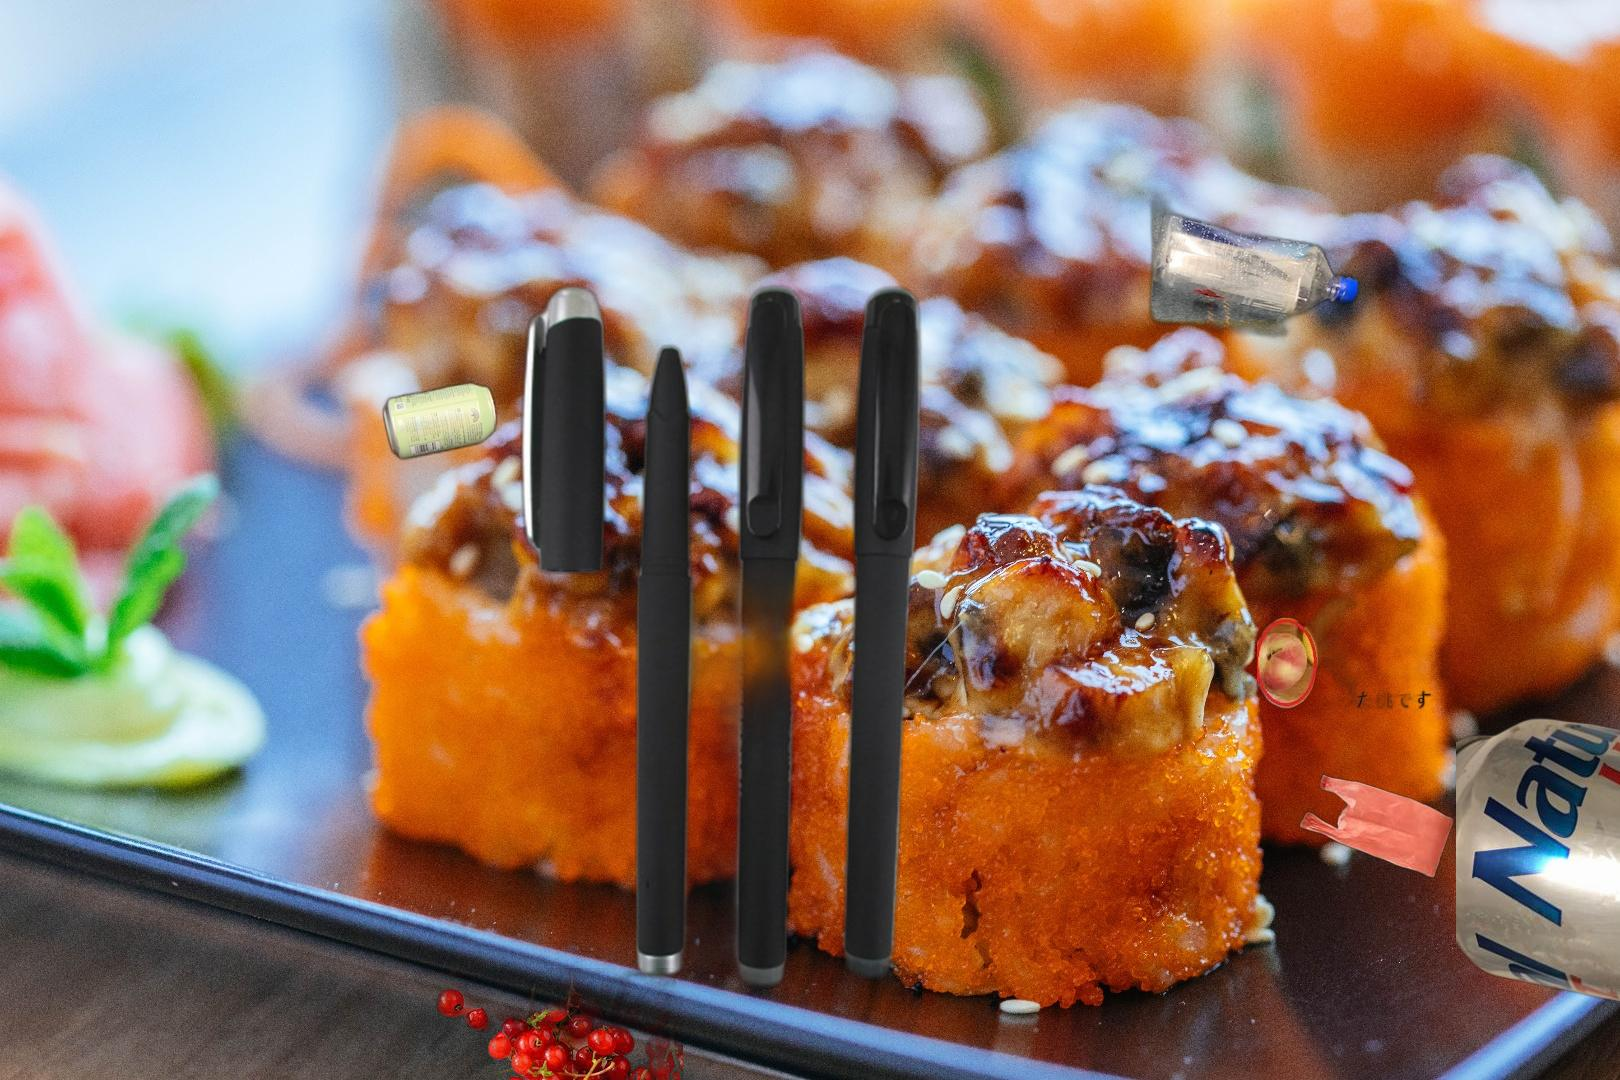biological: (1257, 456, 1451, 715), (406, 968, 683, 1080)
metal-cans: (1456, 716, 1620, 1053), (378, 376, 501, 464)
penholder: (513, 280, 928, 993)
plastic-bag: (1296, 706, 1465, 880)
plastic-bottles: (1144, 182, 1363, 346)
